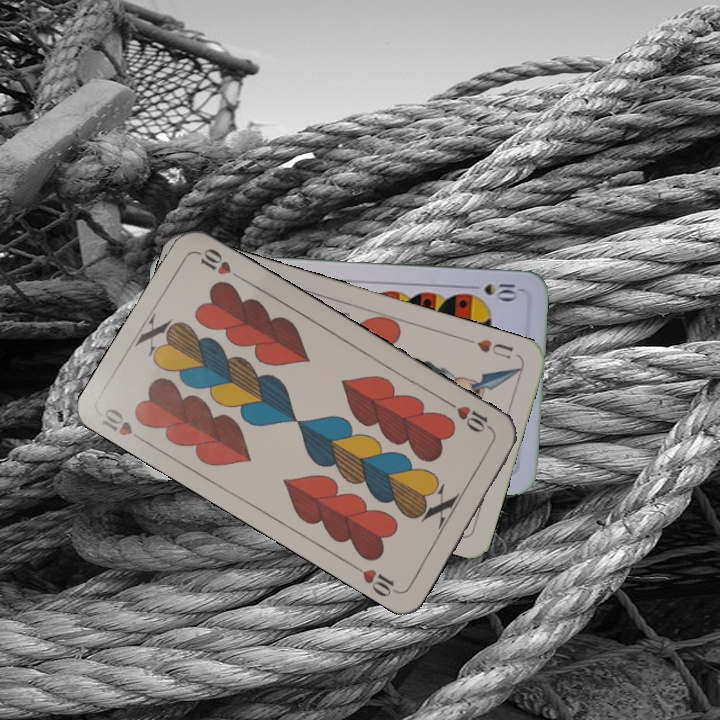H10: (97, 404, 150, 447), (443, 397, 496, 436)
HU: (473, 335, 516, 362)
S10: (464, 279, 523, 301)
